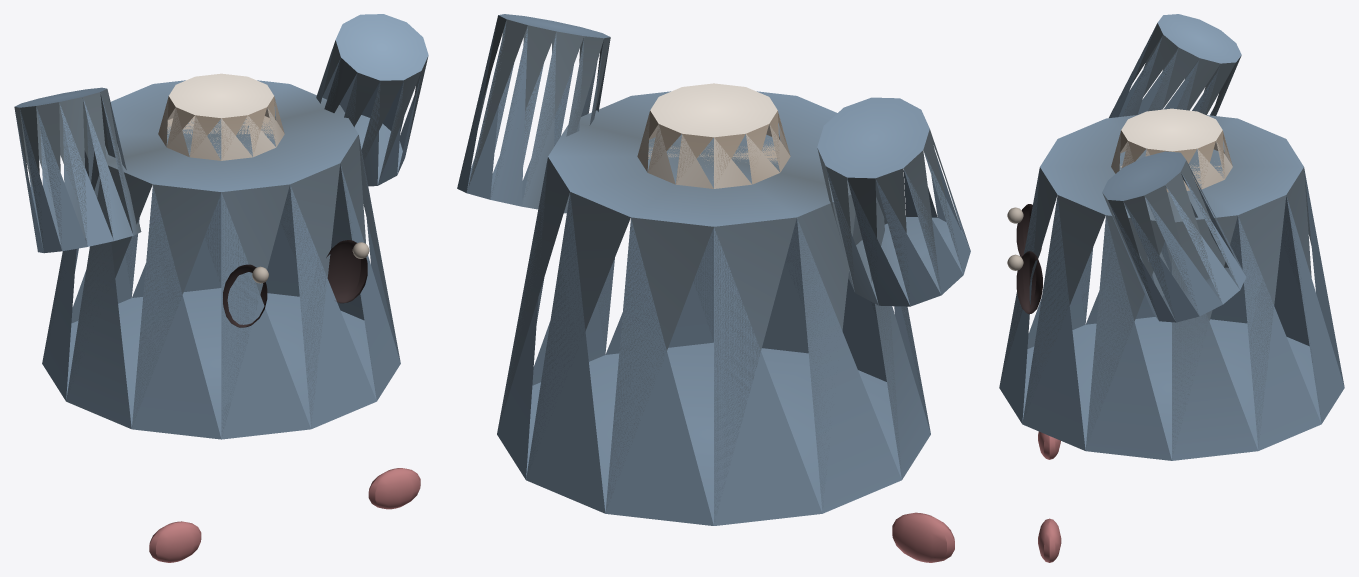
3 views of the same model, side by side, from view 1: azimuth 30°, elevation 25°; view 2: azimuth 150°, elevation 25°; view 3: azimuth 270°, elevation 25° (orthographic). The views are drawn at different scales.
Parts seen in each view (by area): view 1: pet_p6133b1d0; view 2: pet_p6133b1d0; view 3: pet_p6133b1d0.
Part boxes in pixels (x1=…): pet_p6133b1d0: x1=14, y1=14, x2=428, y2=562; pet_p6133b1d0: x1=457, y1=14, x2=970, y2=562; pet_p6133b1d0: x1=999, y1=14, x2=1344, y2=562.
Bounding box in the file's own units: 0.42 × 0.4522 × 0.34.
